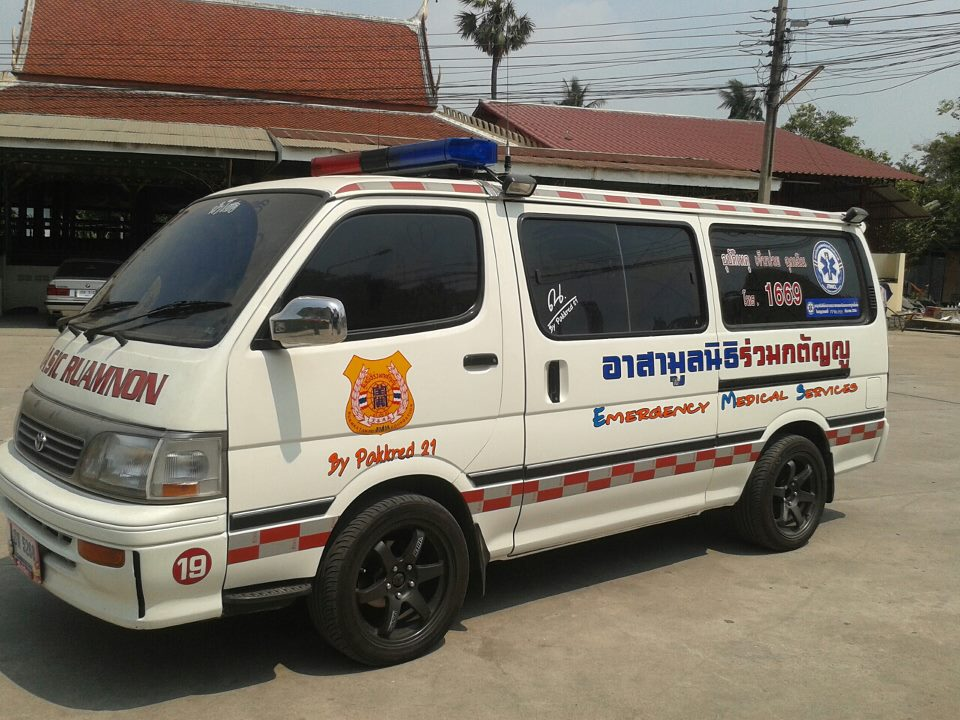van: (6, 166, 896, 666)
